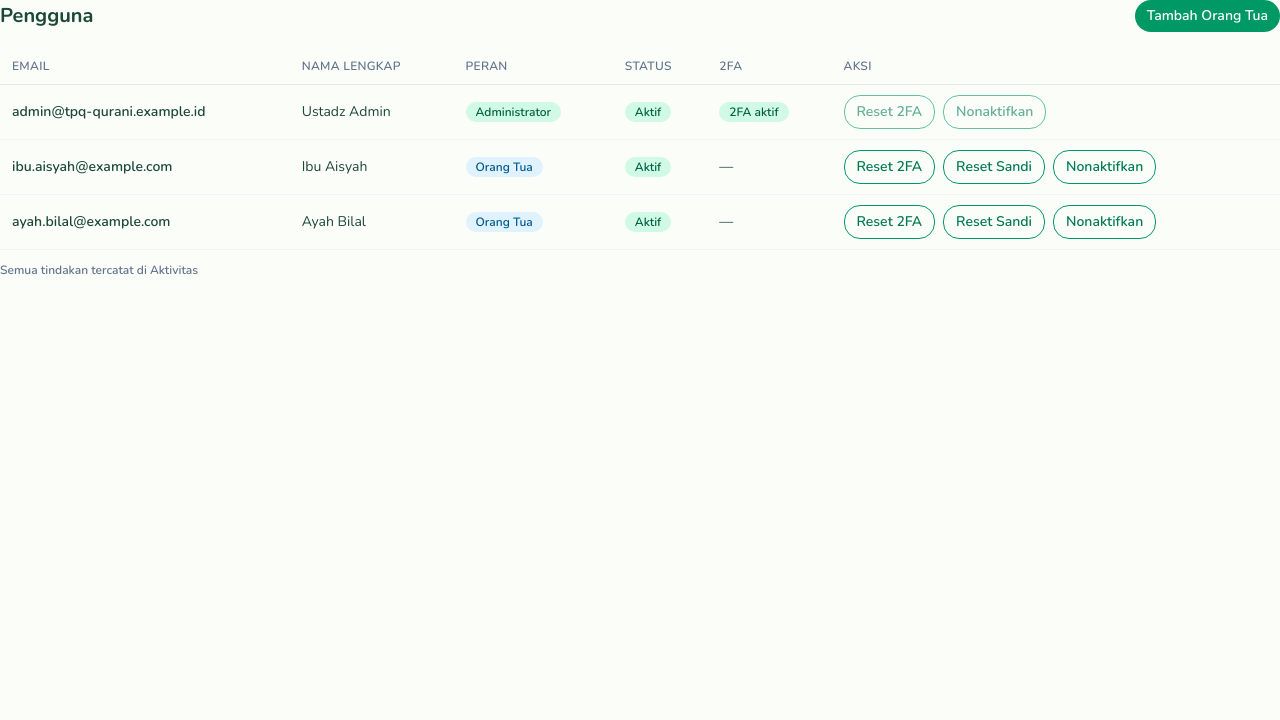
Test: Parent provisioning and reset › resets a parent password posting new_password and ends old sessions
Expected: the text "ibu.aisyah@example.com" is shown, [0,140,290,194]
Click the button "Reset Sandi" in the row of "ibu.aisyah@example.com": [994, 167] box [943,150,1045,184]
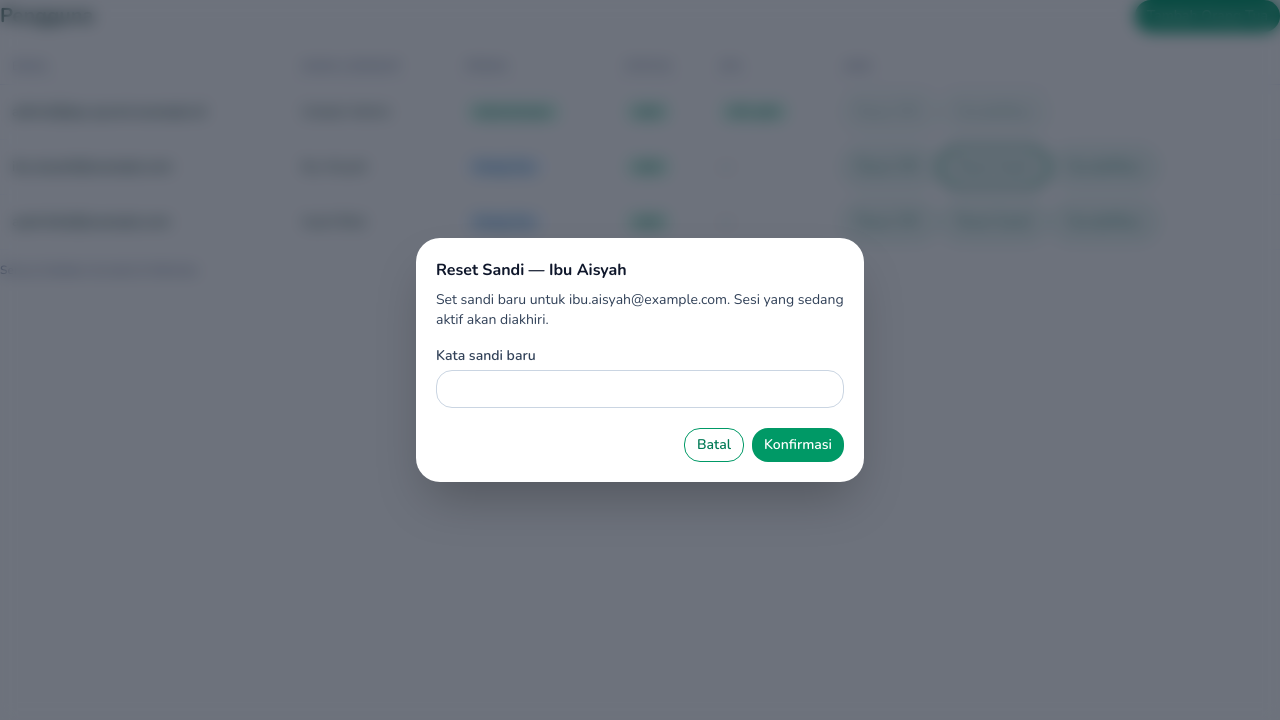
In the password field labelled "Kata sandi baru": [640, 389] box [436,370,844,408], type "BaruSandi#12"
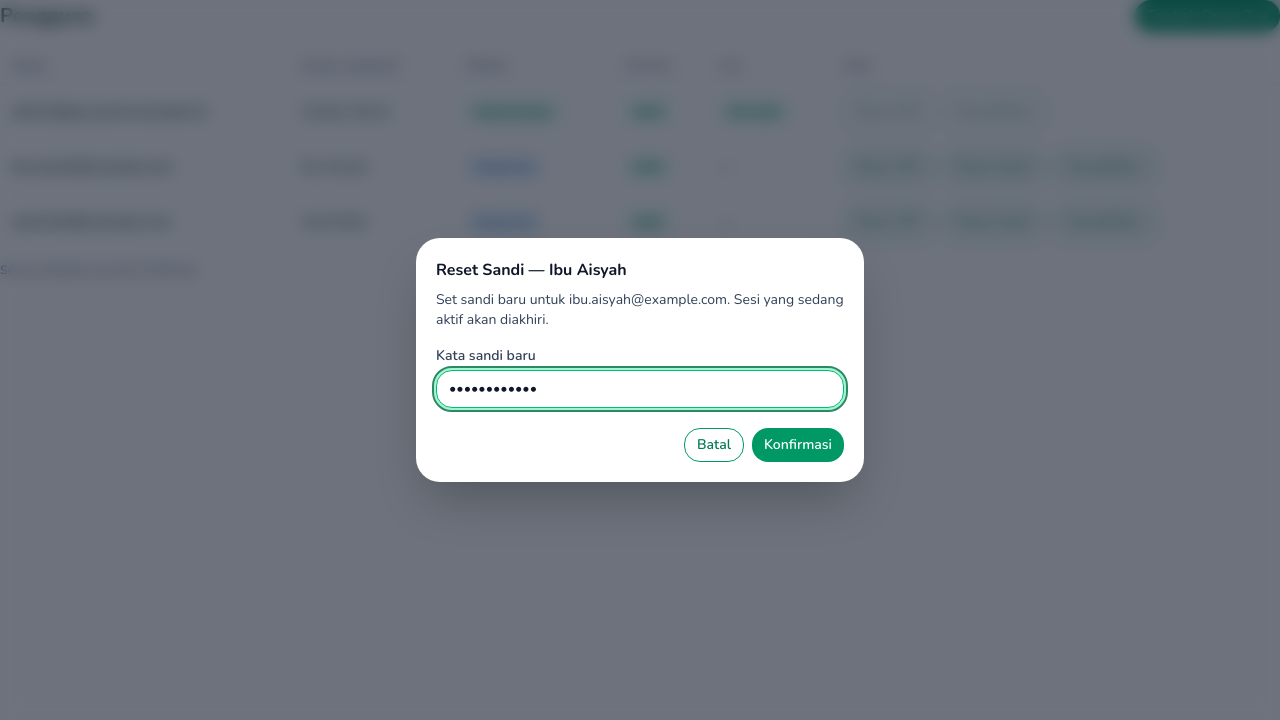
Click the button "Konfirmasi": [798, 445] box [752,428,844,462]
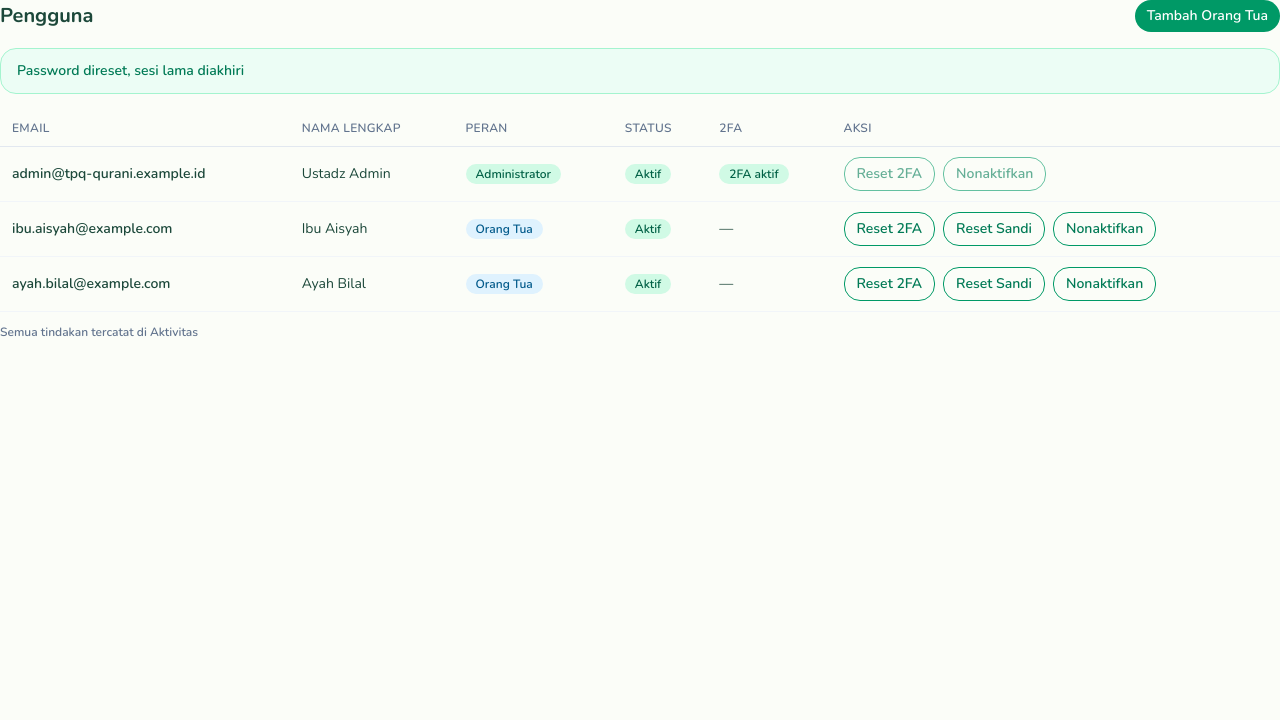
Expected: the text "Password direset, sesi lama diakhiri" is shown, [0,48,1279,94]
